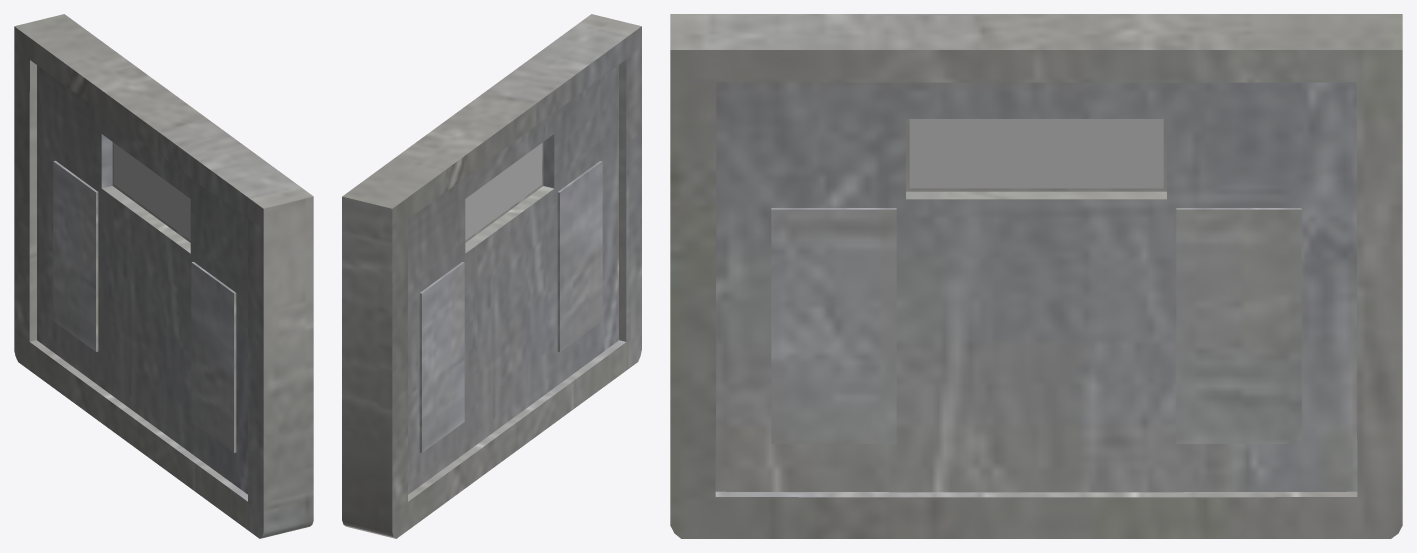
Rendered from Door.fbx.
3 renders of one model, left to right at view 1: azimuth 30°, elevation 25°; view 2: azimuth 150°, elevation 25°; view 3: azimuth 270°, elevation 25°, orthographic. The views are drawn at different scales.
Visible parts, largest first — view 1: pPlane1; view 2: pPlane1; view 3: pPlane1.
Boxes of the visible parts, <box> form: pPlane1: <box>14,14,313,538</box>; pPlane1: <box>342,14,641,538</box>; pPlane1: <box>670,14,1402,538</box>.
Bounding box in the file's own units: 1.86 × 11.79 × 16.01.
